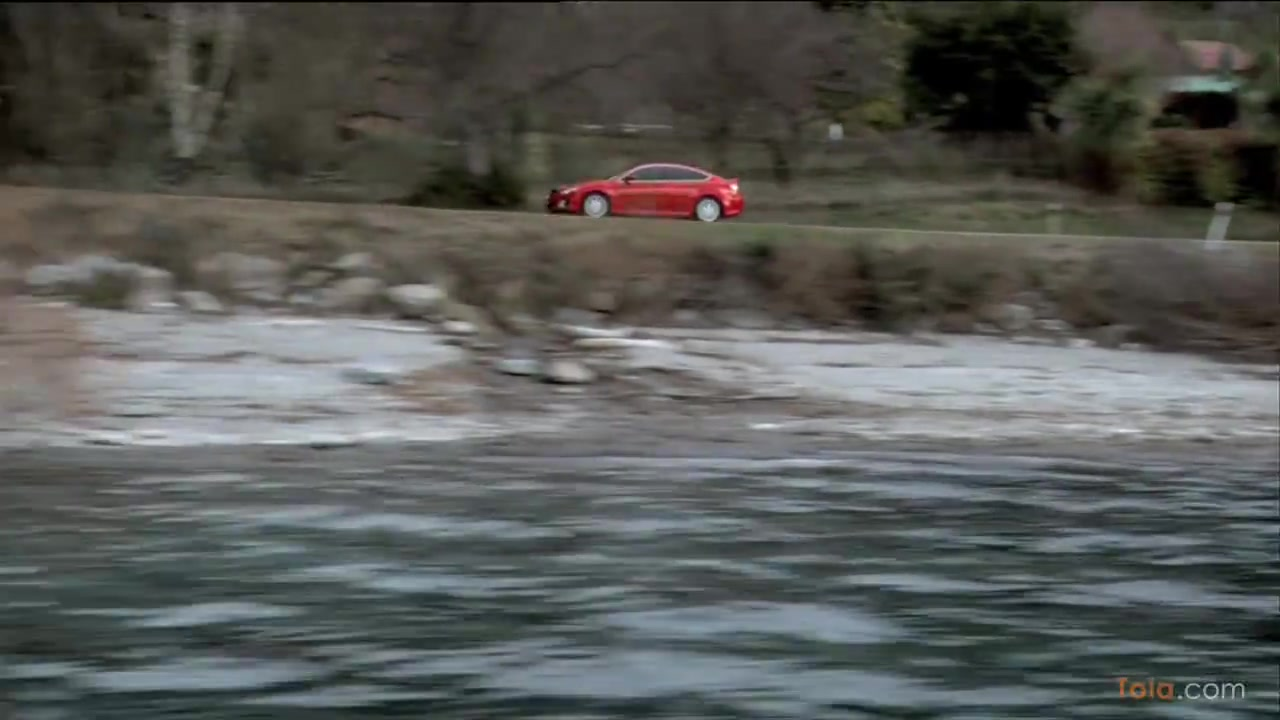car: (542, 160, 744, 222)
